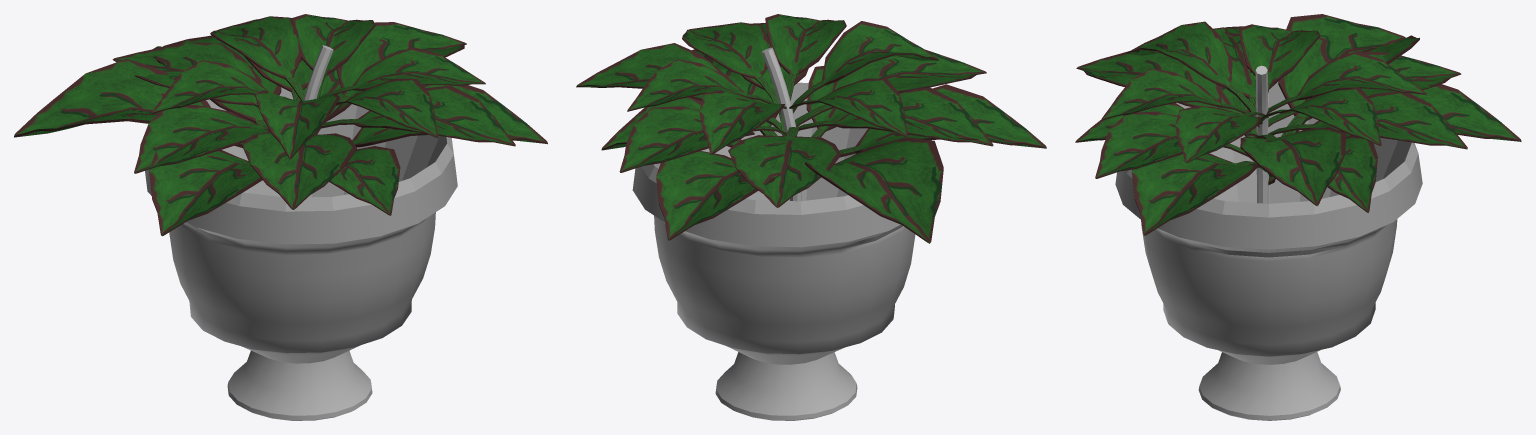
Rendered from pot_1.fbx.
3 views of the same model, side by side, from view 1: azimuth 30°, elevation 25°; view 2: azimuth 150°, elevation 25°; view 3: azimuth 270°, elevation 25° (orthographic). The views are drawn at different scales.
Parts seen in each view (by area): view 1: pasted__pasted__pasted__pSphere1, pasted__pasted__pPlane7 (×2), pasted__pasted__pasted__pPlane7 (×2), pasted__pasted__pasted__pasted__pPlane7; view 2: pasted__pasted__pasted__pSphere1, pasted__pasted__pPlane7 (×2), pasted__pasted__pasted__pPlane7 (×2), pasted__pasted__pasted__pasted__pPlane7, pasted__pasted__pasted__pasted__pCylinder1, pasted__pasted__pasted__pasted__pasted__pCylinder1; view 3: pasted__pasted__pasted__pSphere1, pasted__pasted__pPlane7 (×2), pasted__pasted__pasted__pPlane7 (×2), pasted__pasted__pasted__pasted__pPlane7, pasted__pasted__pasted__pasted__pCylinder1, pasted__pasted__pasted__pasted__pasted__pCylinder1.
Part boxes in pixels (<box>): pasted__pasted__pasted__pSphere1: <box>145,87,457,420</box>; pasted__pasted__pPlane7 (×2): <box>14,18,547,236</box>; pasted__pasted__pasted__pPlane7 (×2): <box>113,17,514,209</box>; pasted__pasted__pasted__pasted__pPlane7: <box>152,14,485,157</box>; pasted__pasted__pasted__pSphere1: <box>632,82,915,420</box>; pasted__pasted__pPlane7 (×2): <box>576,23,1046,243</box>; pasted__pasted__pasted__pPlane7 (×2): <box>576,17,990,207</box>; pasted__pasted__pasted__pasted__pPlane7: <box>627,14,938,154</box>; pasted__pasted__pasted__pasted__pCylinder1: <box>761,48,795,201</box>; pasted__pasted__pasted__pasted__pasted__pCylinder1: <box>764,47,801,201</box>; pasted__pasted__pasted__pSphere1: <box>1115,82,1422,420</box>; pasted__pasted__pPlane7 (×2): <box>1075,14,1521,235</box>; pasted__pasted__pasted__pPlane7 (×2): <box>1077,21,1460,205</box>; pasted__pasted__pasted__pasted__pPlane7: <box>1101,22,1426,163</box>; pasted__pasted__pasted__pasted__pCylinder1: <box>1255,65,1268,203</box>; pasted__pasted__pasted__pasted__pasted__pCylinder1: <box>1256,66,1268,203</box>.
Bounding box in the file's own units: 6.46 × 5.23 × 6.28.
